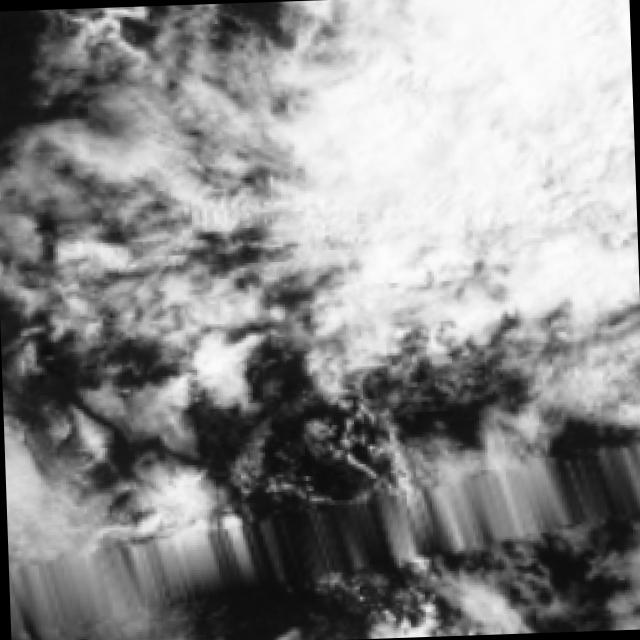CB: (385, 0, 608, 189)
